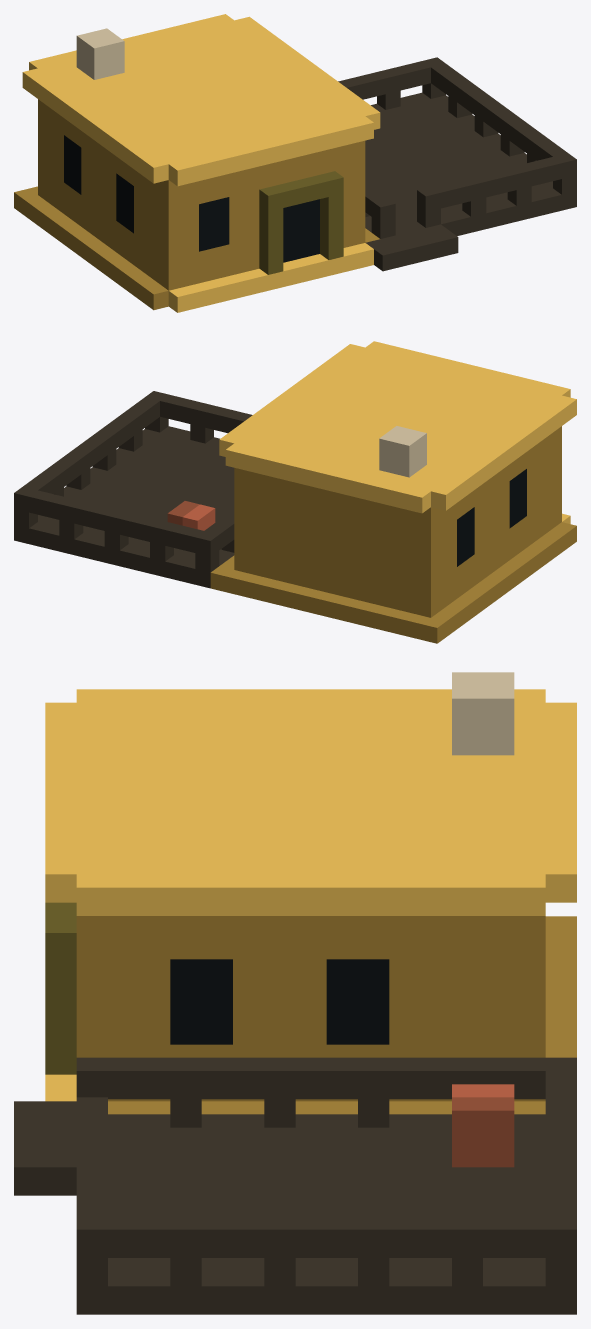
The model's file is Anatolian House.obj.
3 views of the same model, one above another, from view 1: azimuth 30°, elevation 25°; view 2: azimuth 150°, elevation 25°; view 3: azimuth 270°, elevation 25° (orthographic). The views are drawn at different scales.
Bounding box in the file's own units: 2.8 × 1.1 × 1.8.
